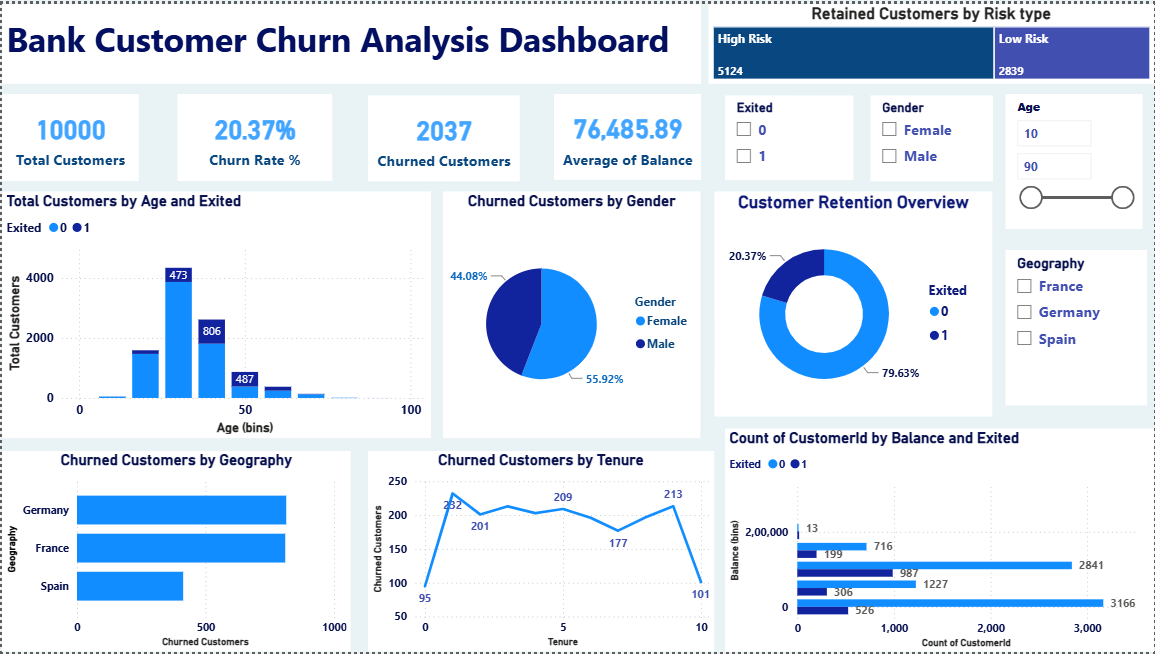

What the dashboard file says about the page in this screenshot:
{"tool":"powerbi","page":{"name":"Page 1","canvas":[1280,720],"ordinal":0},"visuals":[{"type":"textbox","box":[0,0,776.7,88.3],"z":0},{"type":"treemap","fields":{"Values":["Calculated Measure.Retained Customers"],"Group":["Churn_Modelling.Risk type"]},"box":[785,0,495,88.3],"z":1000},{"type":"card","fields":{"Values":["Calculated Measure.Total Customers"]},"box":[0,100,151.7,96.7],"z":2000},{"type":"card","fields":{"Values":["Calculated Measure.Churn Rate %"]},"box":[195,100,171.7,96.7],"z":3000},{"type":"card","fields":{"Values":["Calculated Measure.Churned Customers"]},"box":[406.7,101.7,168.3,95],"z":4000},{"type":"card","fields":{"Values":["Avg(Churn_Modelling.Balance)"]},"box":[613.3,100,163.3,95],"z":5000},{"type":"donutChart","title":"Customer Retention Overview","fields":{"Y":["Calculated Measure.Total Customers"],"Category":["Churn_Modelling.Exited"]},"box":[791.9,209,308.9,249.8],"z":6000},{"type":"barChart","fields":{"Category":["Churn_Modelling.Geography"],"Y":["CountNonNull(Churn_Modelling.Exited)"]},"box":[0,496.7,387.6,222.6],"z":7000},{"type":"pieChart","fields":{"Category":["Churn_Modelling.Gender"],"Y":["CountNonNull(Churn_Modelling.Exited)"]},"box":[490.6,209,286.2,274.1],"z":8000},{"type":"columnChart","title":"Total Customers by Age and Exited","fields":{"Category":["Churn_Modelling.Age (bins)"],"Y":["Calculated Measure.Total Customers"],"Series":["Churn_Modelling.Exited"]},"box":[0,209,477,274.1],"z":9000},{"type":"lineChart","fields":{"Y":["Calculated Measure.Churned Customers"],"Category":["Churn_Modelling.Tenure"]},"box":[407.3,496.7,384.6,222.6],"z":10000},{"type":"clusteredBarChart","title":"Count of CustomerId by Balance and Exited","fields":{"Category":["Churn_Modelling.Balance (bins)"],"Y":["CountNonNull(Churn_Modelling.CustomerId)"],"Series":["Churn_Modelling.Exited"]},"box":[802.5,470.9,477,248.3],"z":11000},{"type":"slicer","fields":{"Values":["Churn_Modelling.Geography"]},"box":[1114.5,274.1,157.5,172.6],"z":12000},{"type":"slicer","fields":{"Values":["Churn_Modelling.Exited"]},"box":[802.5,101.5,142.3,93.9],"z":13000},{"type":"slicer","fields":{"Values":["Churn_Modelling.Gender"]},"box":[964.5,101.5,136.3,95.4],"z":14000},{"type":"slicer","fields":{"Values":["Churn_Modelling.Age (bins)"]},"box":[1114.5,99.9,151.4,149.9],"z":14001}]}

Visuals, with their boxes in screenshot pixels (x1, y1, x2, y2), scaled from the page's 1280x720 canvas onto the 1155x654 screenshot:
textbox: crop(0, 0, 701, 80)
treemap - Calculated Measure.Retained Customers x Churn_Modelling.Risk type: crop(708, 0, 1154, 80)
card - Calculated Measure.Total Customers: crop(0, 91, 137, 179)
card - Calculated Measure.Churn Rate %: crop(176, 91, 331, 179)
card - Calculated Measure.Churned Customers: crop(367, 92, 519, 179)
card - Avg(Churn_Modelling.Balance): crop(553, 91, 701, 177)
"Customer Retention Overview" donutChart: crop(715, 190, 993, 417)
barChart - Churn_Modelling.Geography x CountNonNull(Churn_Modelling.Exited): crop(0, 451, 350, 653)
pieChart - Churn_Modelling.Gender x CountNonNull(Churn_Modelling.Exited): crop(443, 190, 701, 439)
"Total Customers by Age and Exited" columnChart: crop(0, 190, 430, 439)
lineChart - Calculated Measure.Churned Customers x Churn_Modelling.Tenure: crop(368, 451, 715, 653)
"Count of CustomerId by Balance and Exited" clusteredBarChart: crop(724, 428, 1154, 653)
slicer - Churn_Modelling.Geography: crop(1006, 249, 1148, 406)
slicer - Churn_Modelling.Exited: crop(724, 92, 853, 177)
slicer - Churn_Modelling.Gender: crop(870, 92, 993, 179)
slicer - Churn_Modelling.Age (bins): crop(1006, 91, 1142, 227)
